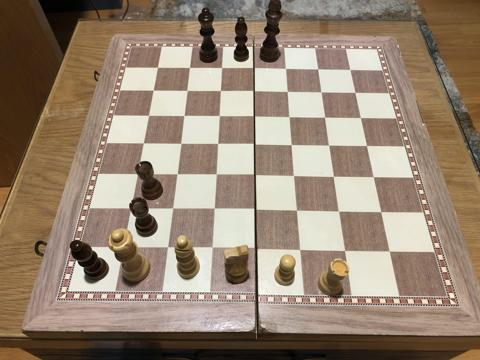xcorner: (312, 63, 324, 75), (280, 63, 292, 75), (217, 63, 229, 75), (153, 62, 165, 74), (349, 86, 361, 98), (316, 86, 328, 98), (282, 86, 294, 98), (249, 86, 261, 98), (215, 85, 227, 97), (182, 85, 194, 97), (149, 85, 161, 97), (355, 112, 367, 124), (319, 111, 331, 123), (284, 111, 296, 123), (249, 111, 261, 123), (179, 110, 191, 122), (144, 110, 156, 122), (361, 140, 373, 152), (323, 139, 335, 151), (286, 139, 298, 151), (249, 139, 261, 151), (212, 138, 224, 150), (175, 138, 187, 150), (138, 138, 150, 150), (367, 171, 379, 183), (249, 170, 261, 182), (210, 169, 222, 181), (171, 169, 183, 181), (132, 169, 144, 181), (375, 206, 387, 218), (291, 205, 303, 217), (208, 204, 220, 216), (125, 203, 137, 215), (383, 246, 395, 258), (339, 245, 351, 257), (250, 244, 262, 256), (161, 243, 173, 255), (344, 64, 356, 75), (249, 63, 260, 75), (185, 63, 197, 74), (214, 111, 226, 122), (328, 171, 340, 182), (289, 170, 300, 182), (333, 206, 345, 217), (250, 205, 261, 217), (167, 204, 178, 216), (294, 245, 306, 256), (117, 243, 129, 254), (206, 244, 217, 255)
